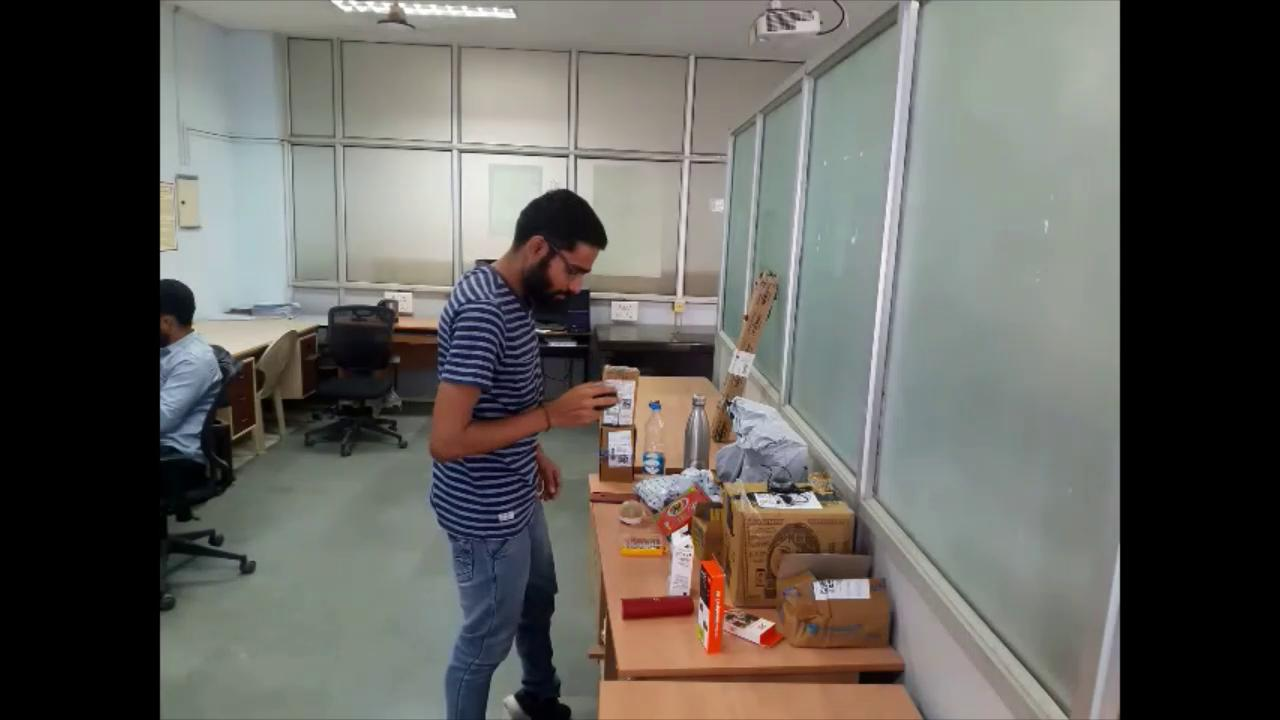Normal: (421, 185, 622, 720)
